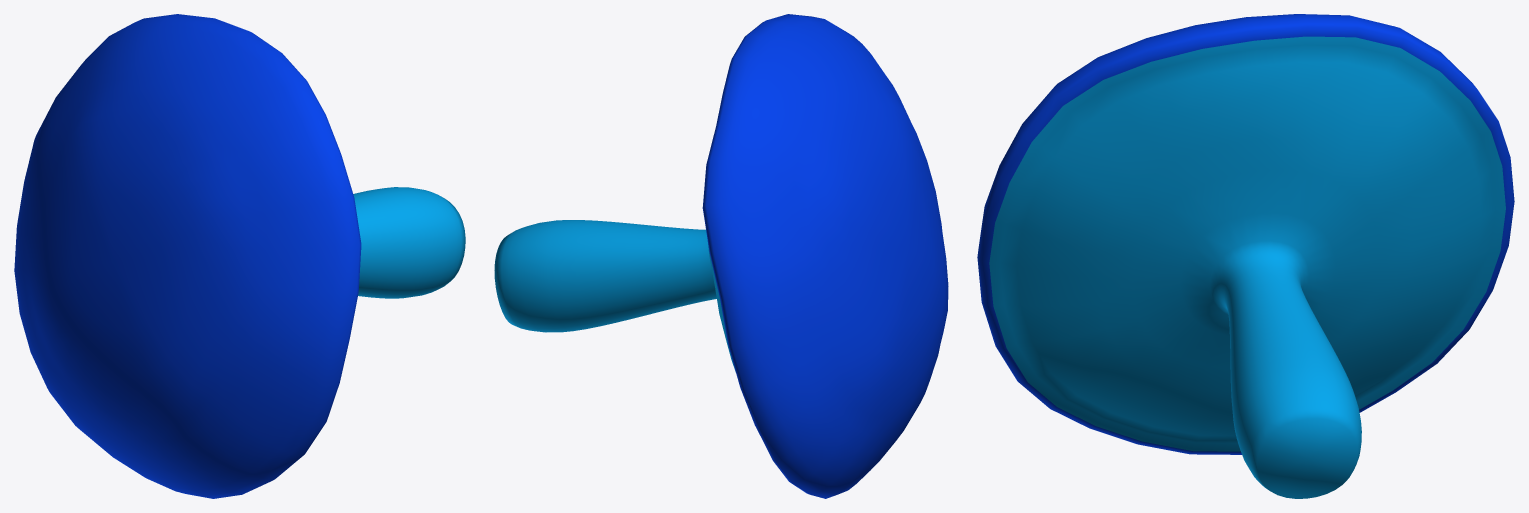
File: CogumeloAguaViva.fbx
3 views of the same model, side by side, from view 1: azimuth 30°, elevation 25°; view 2: azimuth 150°, elevation 25°; view 3: azimuth 270°, elevation 25° (orthographic). The views are drawn at different scales.
Visible parts, largest first — view 1: CogumeloAguaViva; view 2: CogumeloAguaViva; view 3: CogumeloAguaViva.
Boxes of the visible parts, box(x1,y1,x2,y2) form: CogumeloAguaViva: box(14, 14, 465, 498); CogumeloAguaViva: box(494, 14, 948, 498); CogumeloAguaViva: box(977, 14, 1514, 498).
Size of the model in its own units: 196 by 204 by 206.
